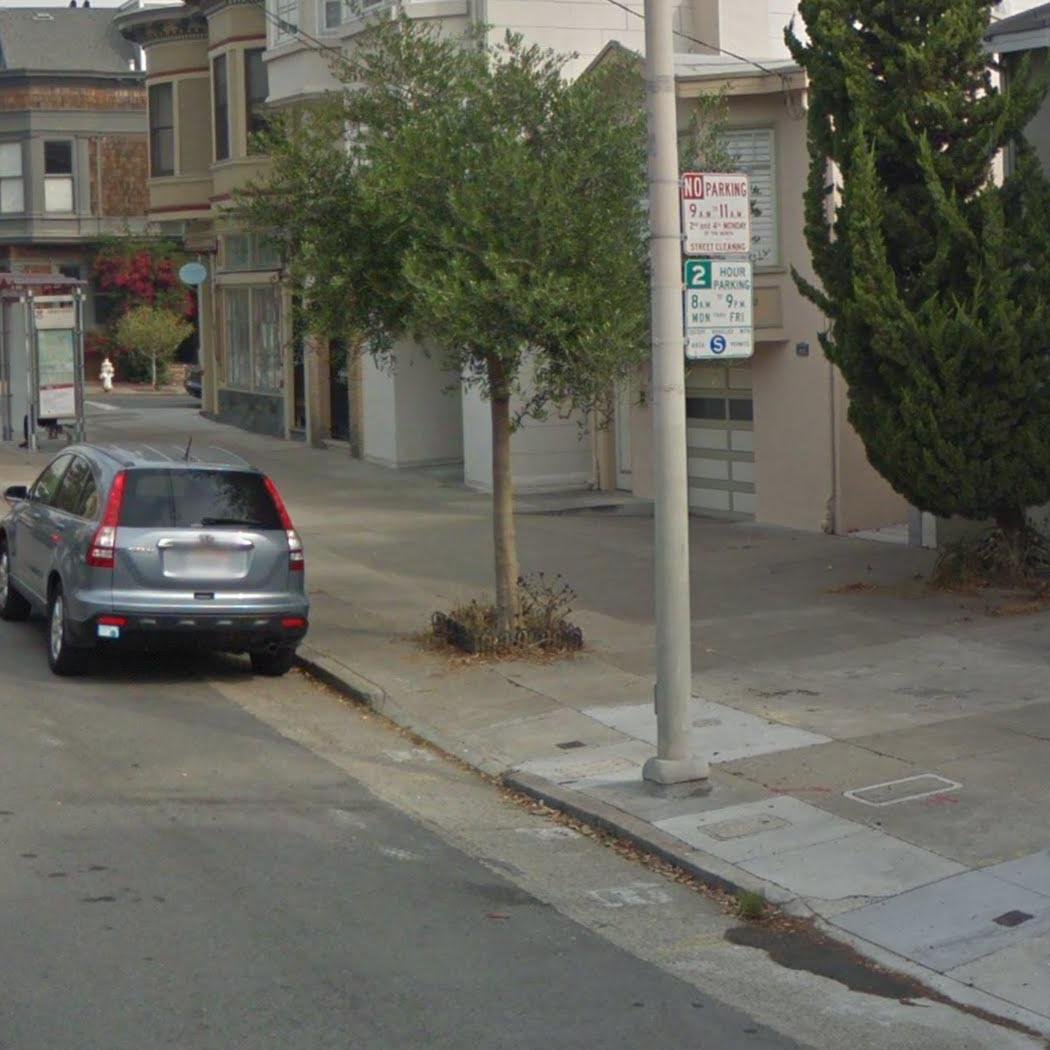2 Hour Parking: (680, 259, 757, 364)
No Parking: (676, 168, 756, 257)
